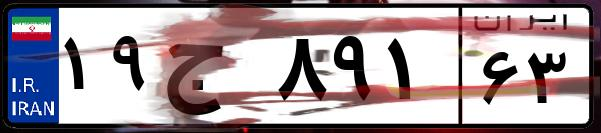1: (385, 28, 445, 110), (57, 26, 110, 100)
3: (525, 38, 570, 115)
6: (475, 38, 525, 113)
8: (270, 28, 330, 110)
9: (330, 28, 385, 110), (110, 28, 158, 98)
ج: (158, 20, 270, 120)
